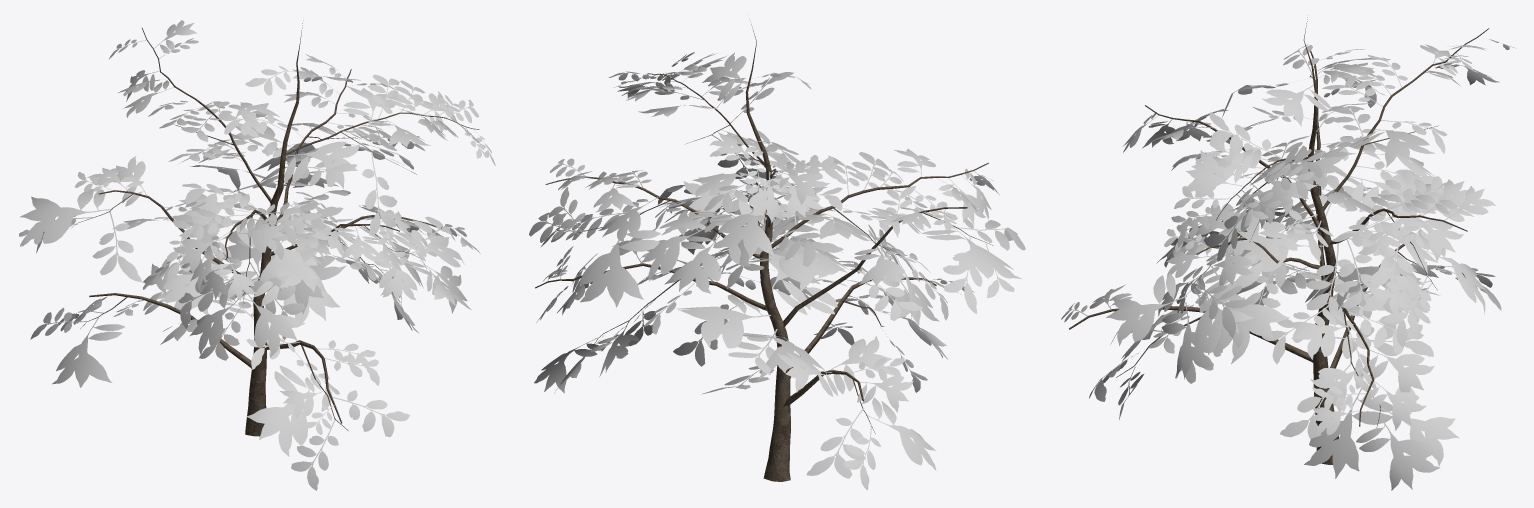
The model's file is BIO_VEG_Bush_01A.fbx.
3 renders of one model, left to right at view 1: azimuth 30°, elevation 25°; view 2: azimuth 150°, elevation 25°; view 3: azimuth 270°, elevation 25°, orthographic. The views are drawn at different scales.
Visible parts, largest first — view 1: BIO_VEG_Bush_01A; view 2: BIO_VEG_Bush_01A; view 3: BIO_VEG_Bush_01A.
Boxes of the visible parts, x1,y1,x2,y2 form: BIO_VEG_Bush_01A: (19,20,495,490); BIO_VEG_Bush_01A: (529,24,1025,490); BIO_VEG_Bush_01A: (1061,17,1515,490).
Bounding box in the file's own units: 139 × 122 × 109.
